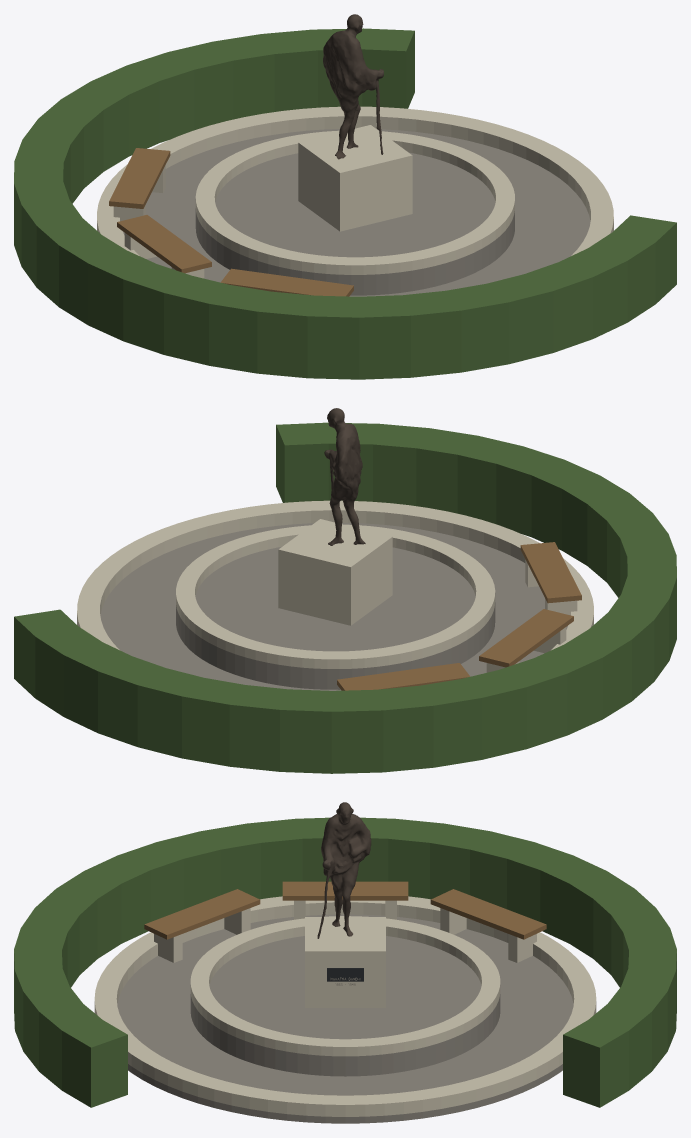
Rendered from gandhi-churchill-laan.glb.
3 views of the same model, one above another, from view 1: azimuth 30°, elevation 25°; view 2: azimuth 150°, elevation 25°; view 3: azimuth 270°, elevation 25° (orthographic). The views are drawn at different scales.
Visible parts, largest first — view 1: gandhi-churchill-laan; view 2: gandhi-churchill-laan; view 3: gandhi-churchill-laan.
Part boxes in pixels (x1,y1,x2,y2): gandhi-churchill-laan: [14, 14, 676, 379]; gandhi-churchill-laan: [14, 408, 676, 773]; gandhi-churchill-laan: [14, 802, 676, 1123].
Bounding box in the file's own units: 7.9 × 3.2 × 8.98.
